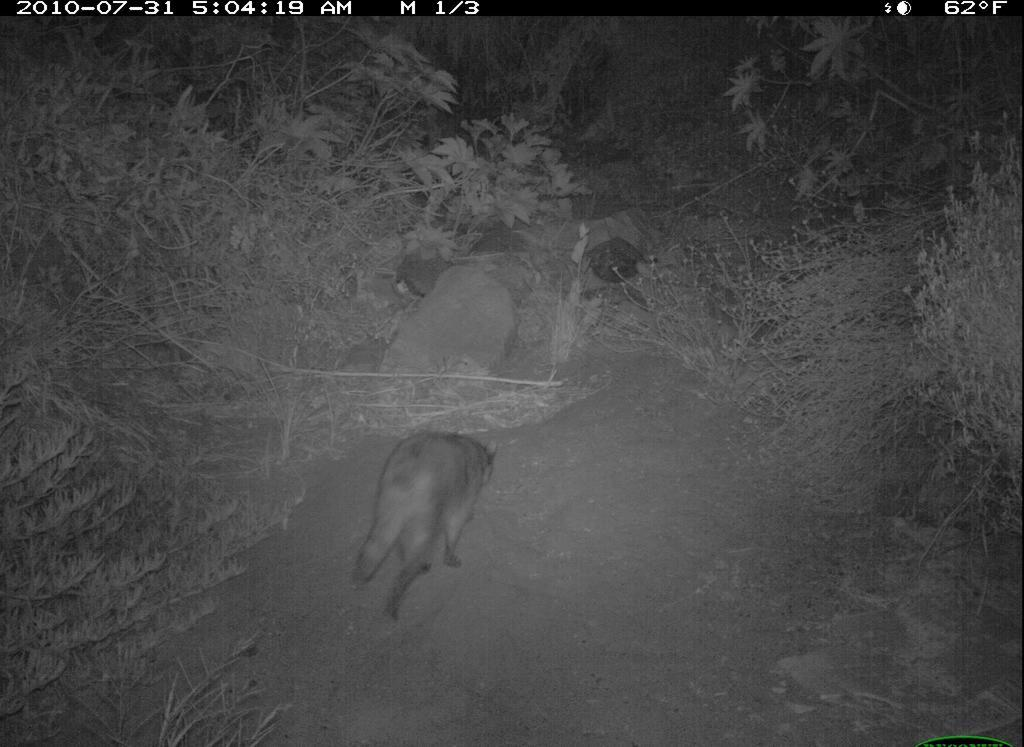raccoon: (342, 418, 515, 629)
